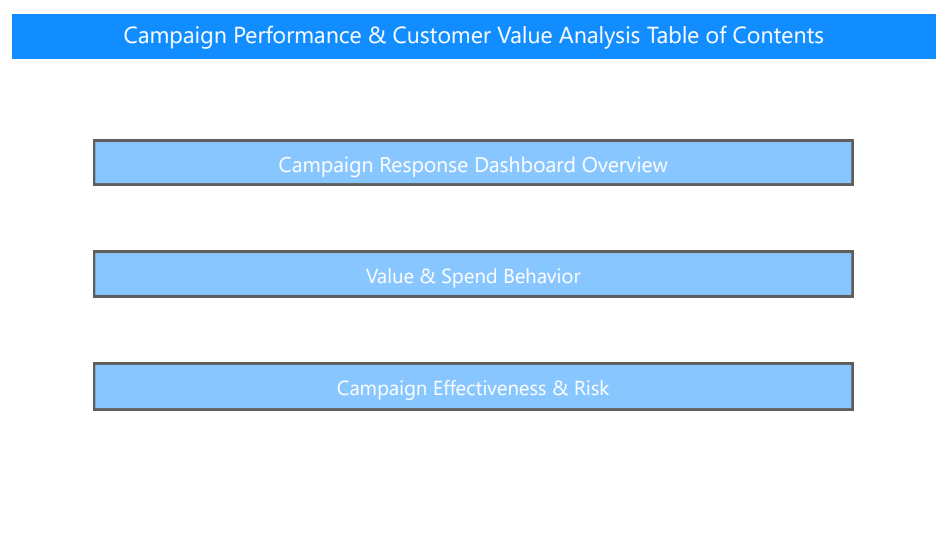

The page's visual inventory and layout, read from the dashboard file:
{"tool":"powerbi","page":{"name":"Page 1","canvas":[1280,720],"ordinal":0},"visuals":[{"type":"textbox","box":[0,0,1280,60.6],"z":0},{"type":"actionButton","box":[111.7,174.2,1054.7,62.5],"z":1000},{"type":"actionButton","box":[111.7,327.6,1054.7,64.4],"z":2000},{"type":"actionButton","box":[111.7,482.8,1054.7,66.3],"z":3000}]}

Visuals, with their boxes in screenshot pixels (x1, y1, x2, y2), scaled from the page's 1280x720 canvas onto the 950x547 screenshot:
textbox: (0,0,949,46)
actionButton: (83,132,866,180)
actionButton: (83,249,866,298)
actionButton: (83,367,866,417)
